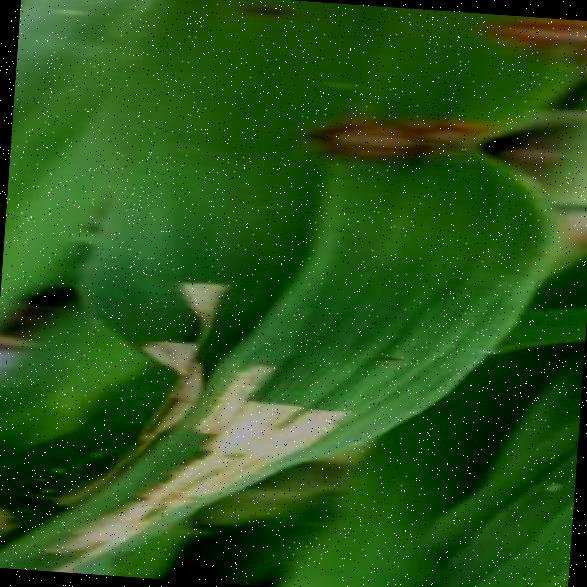Leaf_smut: (302, 90, 526, 178)
